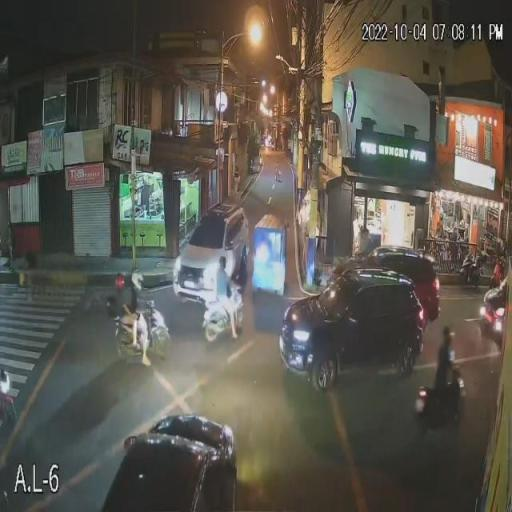helmet: (440, 324, 456, 346), (131, 269, 145, 290), (113, 273, 127, 292), (218, 254, 228, 269)
motorcycle: (108, 303, 175, 359), (416, 374, 470, 428), (202, 301, 245, 343)
rider: (128, 288, 151, 366), (215, 270, 240, 339), (116, 293, 141, 352), (434, 348, 456, 407)
